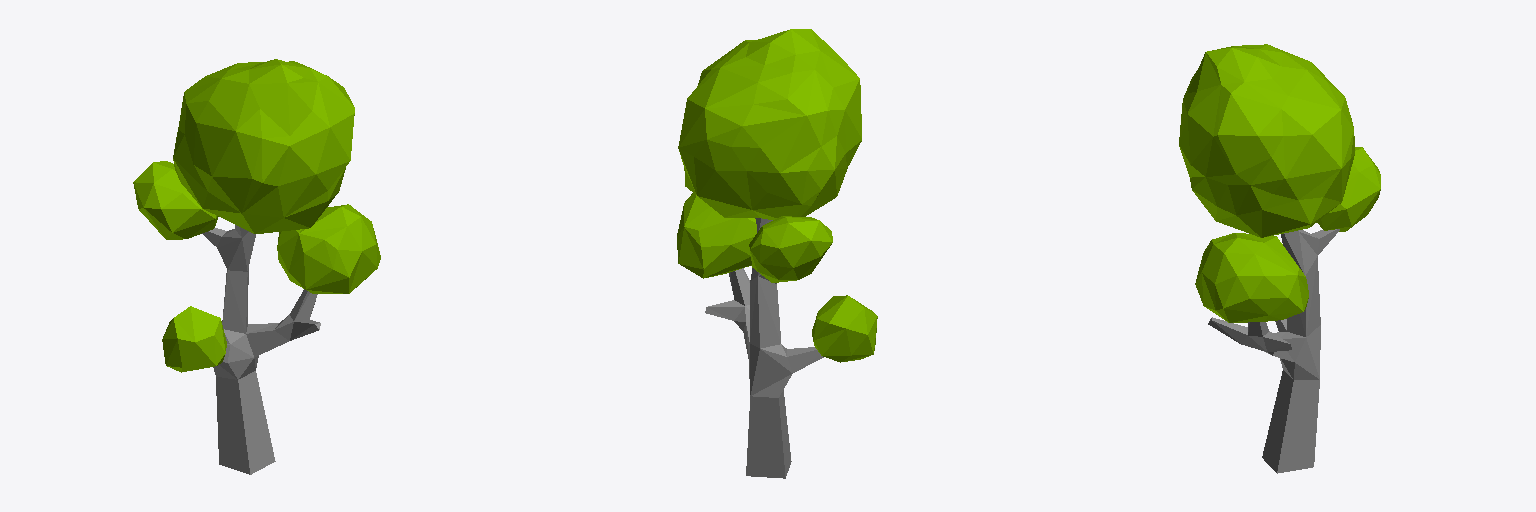
3 renders of one model, left to right at view 1: azimuth 30°, elevation 25°; view 2: azimuth 150°, elevation 25°; view 3: azimuth 270°, elevation 25°, orthographic.
Parts seen in each view (by area): view 1: hojasArbol, Tree1_NaturePack; view 2: hojasArbol, Tree1_NaturePack; view 3: hojasArbol, Tree1_NaturePack.
Part boxes in pixels (x1,y1,x2,y2): hojasArbol: (133,59,380,372); Tree1_NaturePack: (202,225,320,474); hojasArbol: (677,29,877,362); Tree1_NaturePack: (705,218,823,478); hojasArbol: (1179,44,1380,322); Tree1_NaturePack: (1208,229,1339,473).
Size of the model in its own units: 10.52 by 21.42 by 9.4.
2 materials, 1 textured.